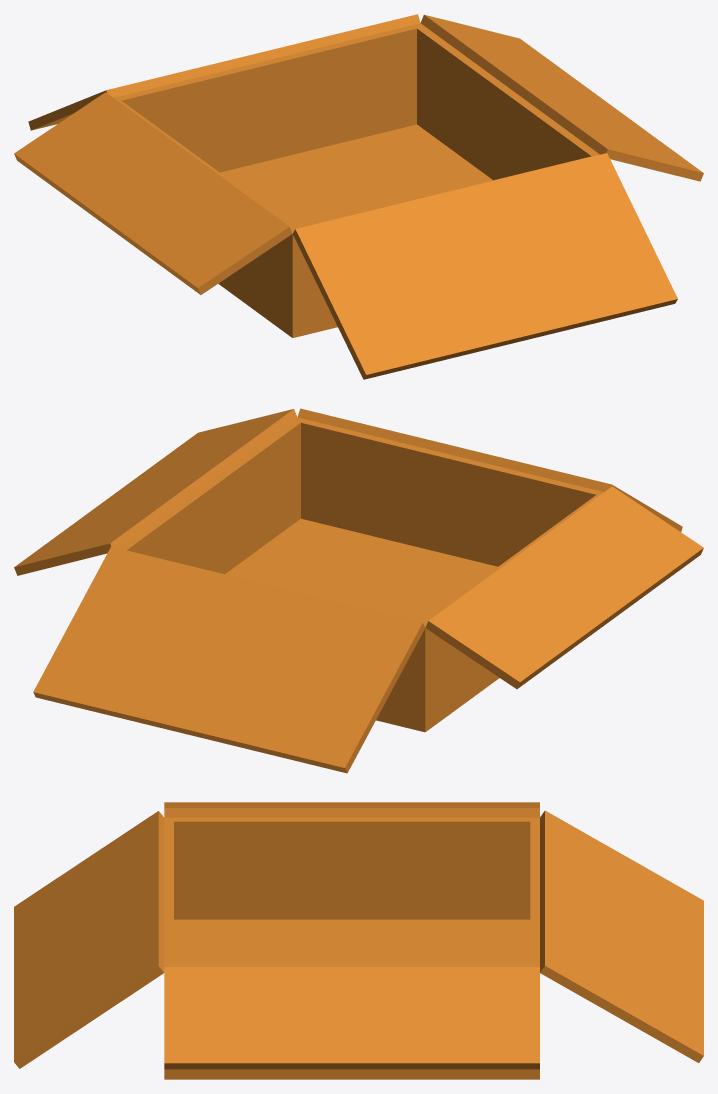
The model's file is CollectionBox.fbx.
3 renders of one model, top to bottom at view 1: azimuth 30°, elevation 25°; view 2: azimuth 150°, elevation 25°; view 3: azimuth 270°, elevation 25°, orthographic. The views are drawn at different scales.
Visible parts, largest first — view 1: Cube.002, Cube.006, Cube.005, Cube.003, Cube.004; view 2: Cube.002, Cube.004, Cube.005, Cube.003, Cube.006; view 3: Cube.002, Cube.003, Cube.004, Cube.006, Cube.005.
Boxes of the visible parts, x1,y1,x2,y2 form: Cube.002: (114,23,599,337); Cube.006: (293,153,677,379); Cube.005: (14,92,292,294); Cube.003: (420,14,703,181); Cube.004: (28,14,420,130); Cube.002: (119,417,603,732); Cube.004: (33,546,424,773); Cube.005: (425,486,703,688); Cube.003: (14,409,297,575); Cube.006: (297,408,682,531); Cube.002: (164,817,539,1079); Cube.003: (164,967,539,1069); Cube.004: (540,810,703,1062); Cube.006: (14,811,164,1068); Cube.005: (164,802,539,817).
Bounding box in the file's own units: 318 × 67.36 × 367.
